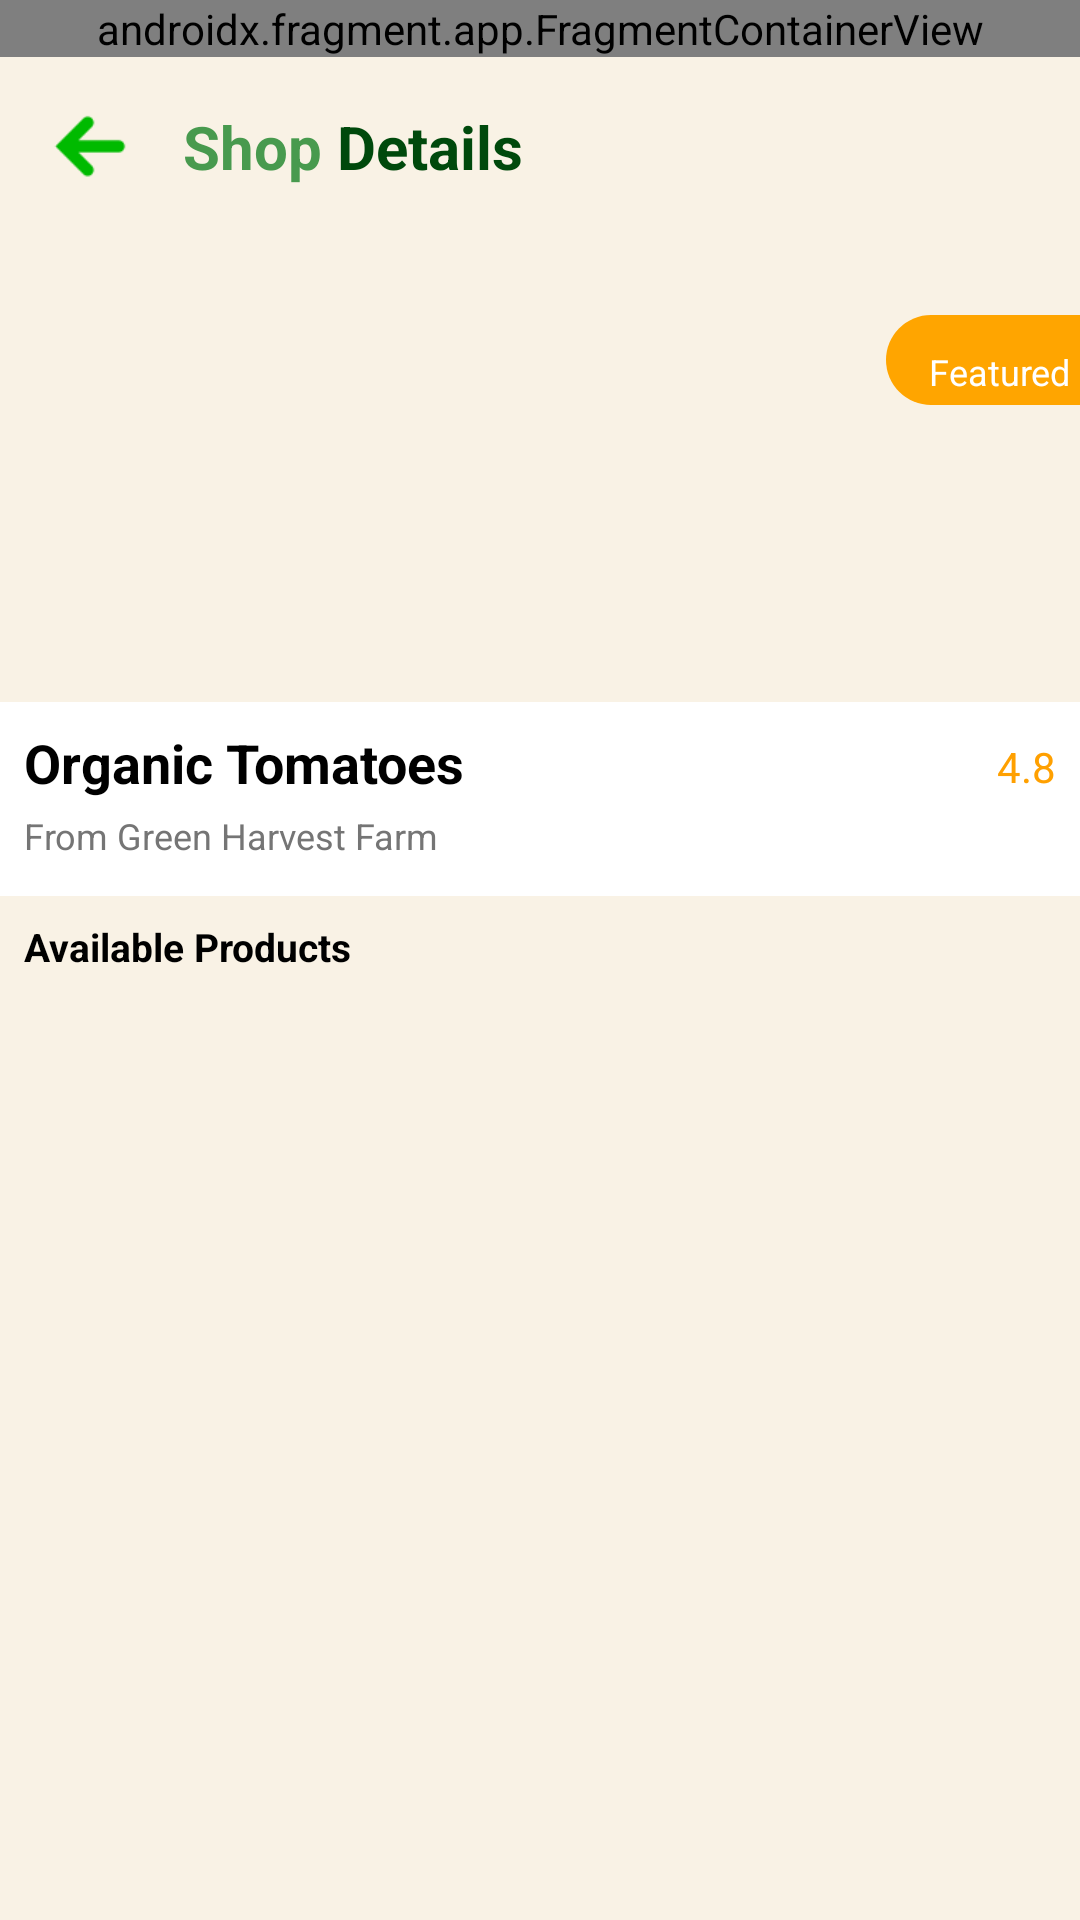

Named icons in this screenshot (1080w x 1920h) and their bounding boxes, BBox(x1, y1, x2, y2):
back to marketplace arrow: BBox(55, 116, 126, 177)
